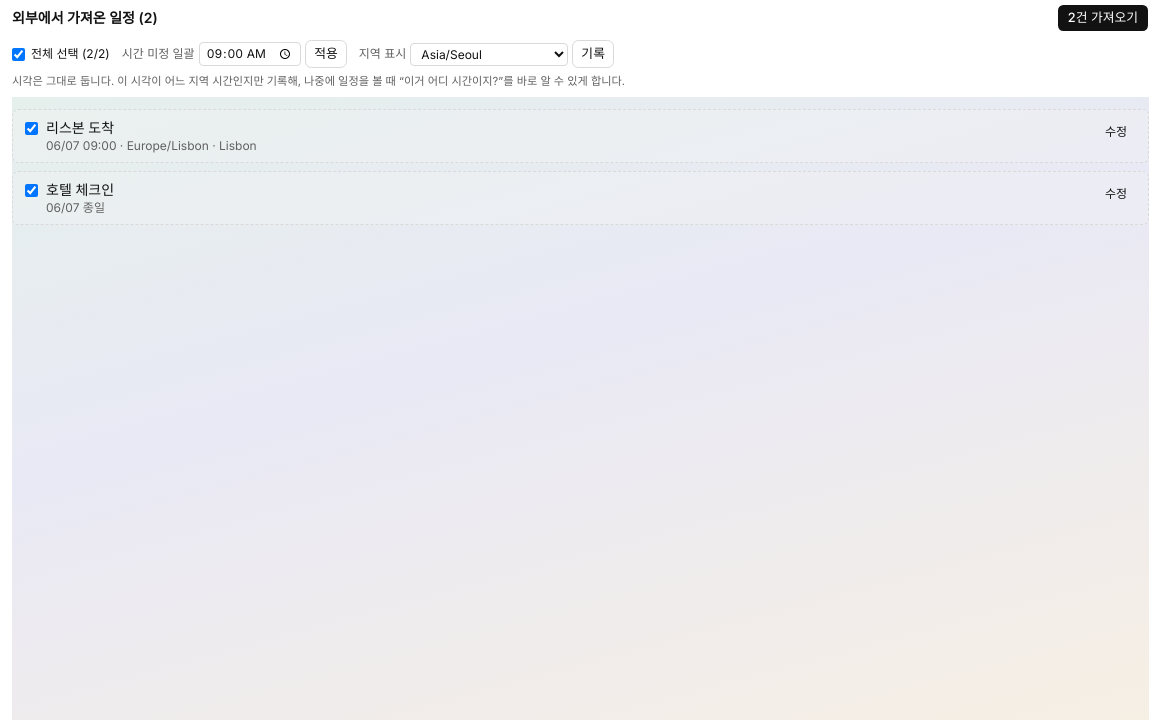
it: DraftSection (spec 033) › 전체 선택을 끄면 확정 버튼이 비활성화된다
Check: the text "리스본 도착" is shown, box x1=46 y1=119 x2=114 y2=136
Click the checkbox labelled "전체 선택 (2/2)". click: point(18, 54)
box: x1=12 y1=48 x2=25 y2=60
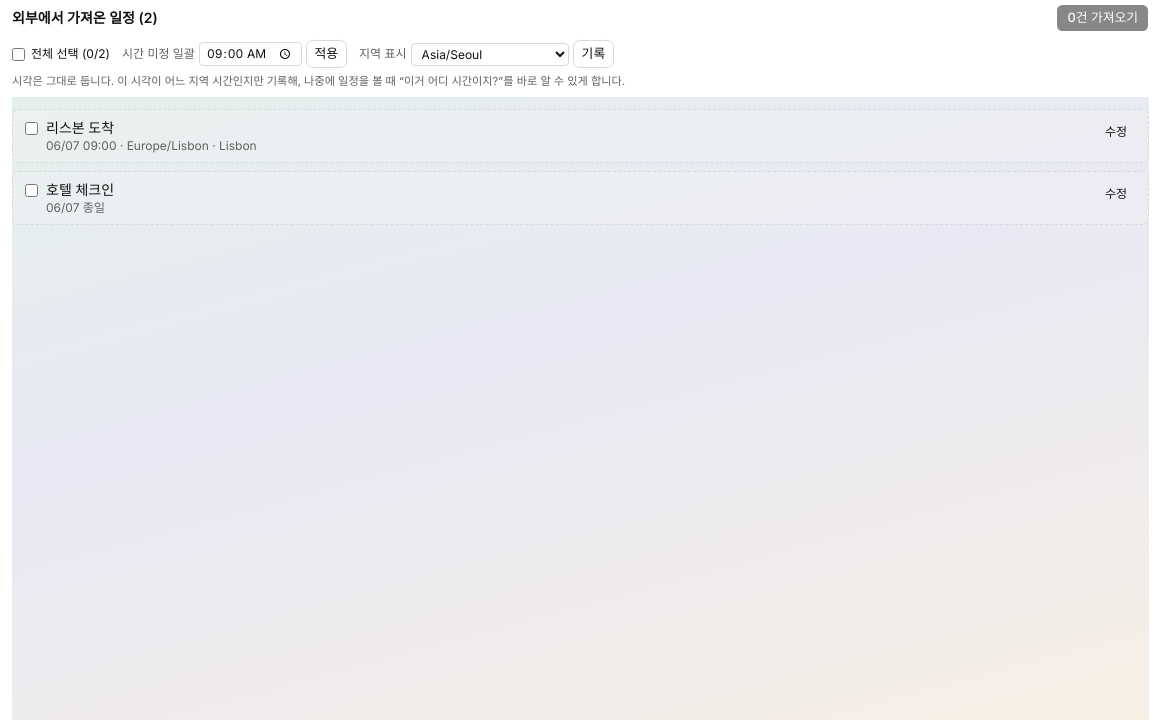
Check: the button "0건 가져오기" is disabled, box x1=1056 y1=4 x2=1149 y2=32
